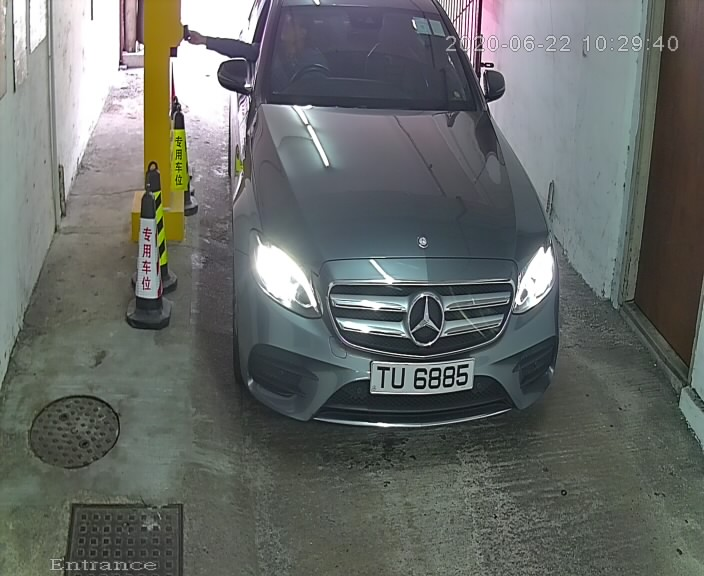privatecar: (193, 1, 591, 488)
